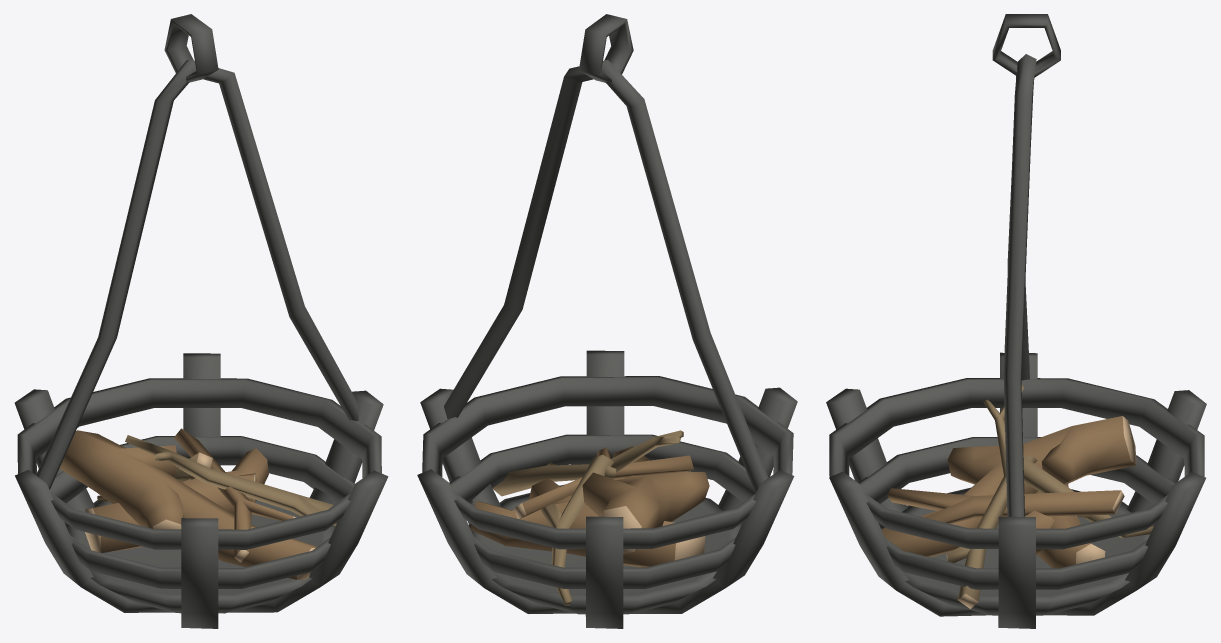
The model's file is rpgpp_ag_brazier_02.fbx.
The picture shows the model from 3 angles, left to right: view 1: azimuth 30°, elevation 25°; view 2: azimuth 150°, elevation 25°; view 3: azimuth 270°, elevation 25°; orthographic projection.
Visible parts, largest first — view 1: rpgpp_ag_brazier_02; view 2: rpgpp_ag_brazier_02; view 3: rpgpp_ag_brazier_02.
Part boxes in pixels (x1,y1,x2,y2): rpgpp_ag_brazier_02: [14, 14, 388, 628]; rpgpp_ag_brazier_02: [417, 14, 797, 628]; rpgpp_ag_brazier_02: [826, 14, 1206, 628].
Bounding box in the file's own units: 0.7335 × 1.14 × 0.6793.
